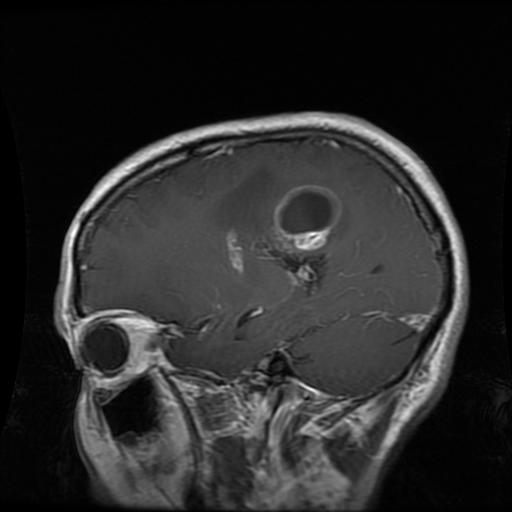Gliomia_tumour: (214, 165, 352, 293)
